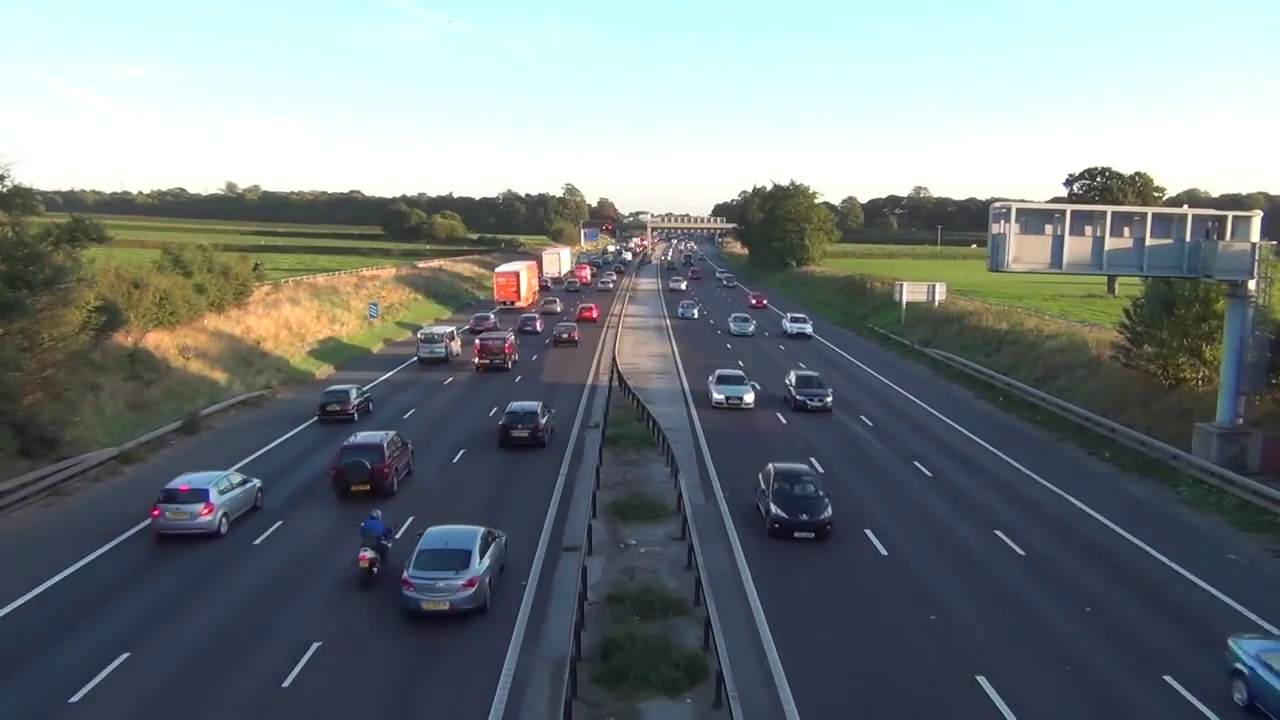bus: (398, 524, 514, 619), (147, 465, 272, 546), (755, 458, 836, 539), (335, 431, 413, 507), (1221, 635, 1280, 718), (494, 400, 557, 456), (320, 384, 372, 432), (704, 369, 758, 414), (784, 370, 832, 416), (726, 311, 759, 338), (780, 312, 813, 339), (550, 322, 582, 347), (515, 312, 547, 336), (467, 311, 500, 334), (575, 302, 600, 324), (678, 299, 701, 321), (538, 297, 563, 315), (747, 291, 770, 308), (667, 276, 687, 292), (562, 278, 581, 291), (722, 274, 738, 289), (687, 266, 702, 280), (538, 278, 553, 292), (597, 279, 614, 290), (715, 268, 727, 282), (611, 263, 626, 273), (603, 272, 617, 282), (665, 261, 678, 271), (593, 258, 603, 267), (590, 267, 597, 276)
car: (491, 261, 539, 309), (542, 247, 573, 283)
jeep: (337, 507, 399, 587)
lorry: (475, 330, 519, 371), (416, 326, 463, 361), (571, 259, 576, 273)
minibus: (574, 265, 593, 286), (681, 254, 696, 267)
